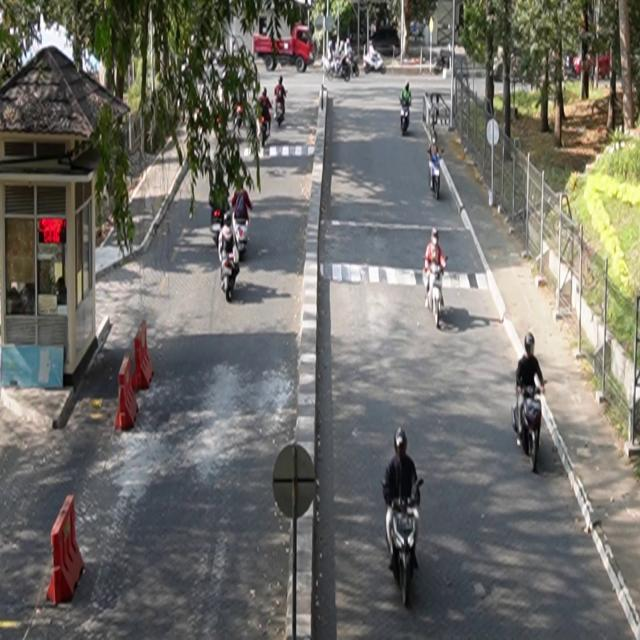truck: (254, 24, 316, 73)
